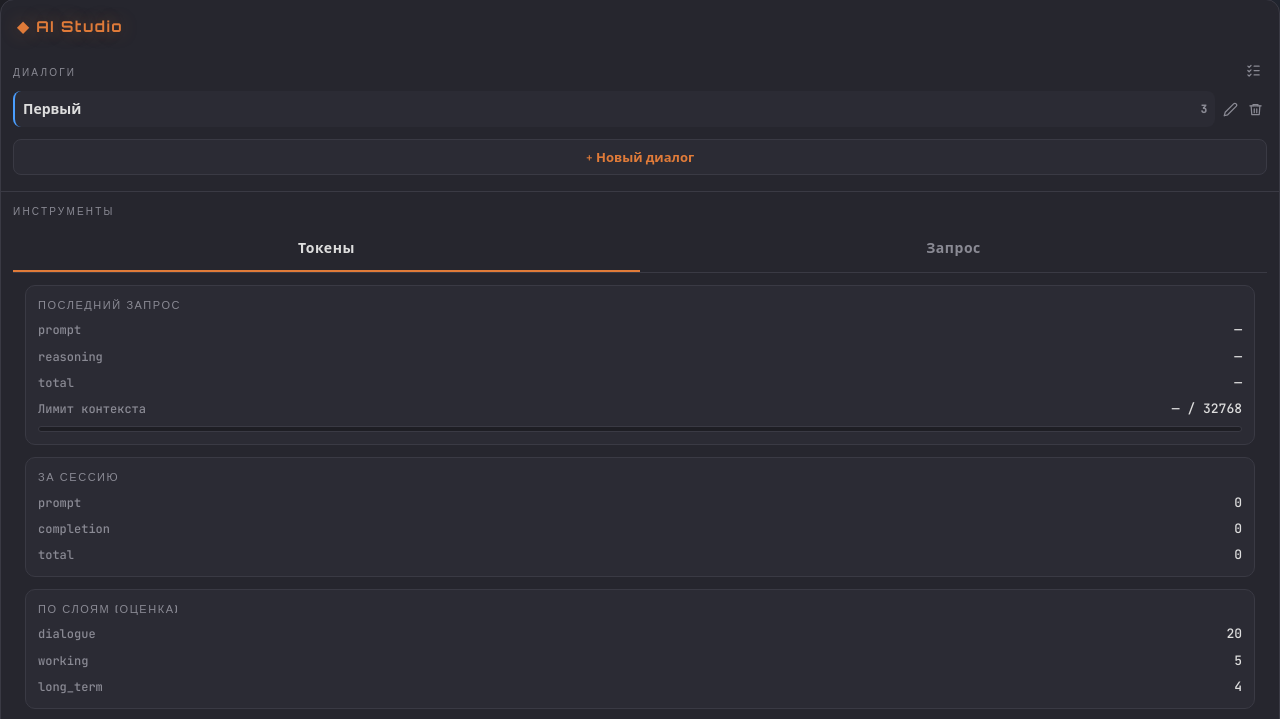
Scenario: Sidebar — ренейм по карандашу › карандаш → инпут → Enter → POST /rename → новый title в списке И в h1 чата
Click the button titled "Переименовать": click(1230, 109) [1219,100,1242,118]
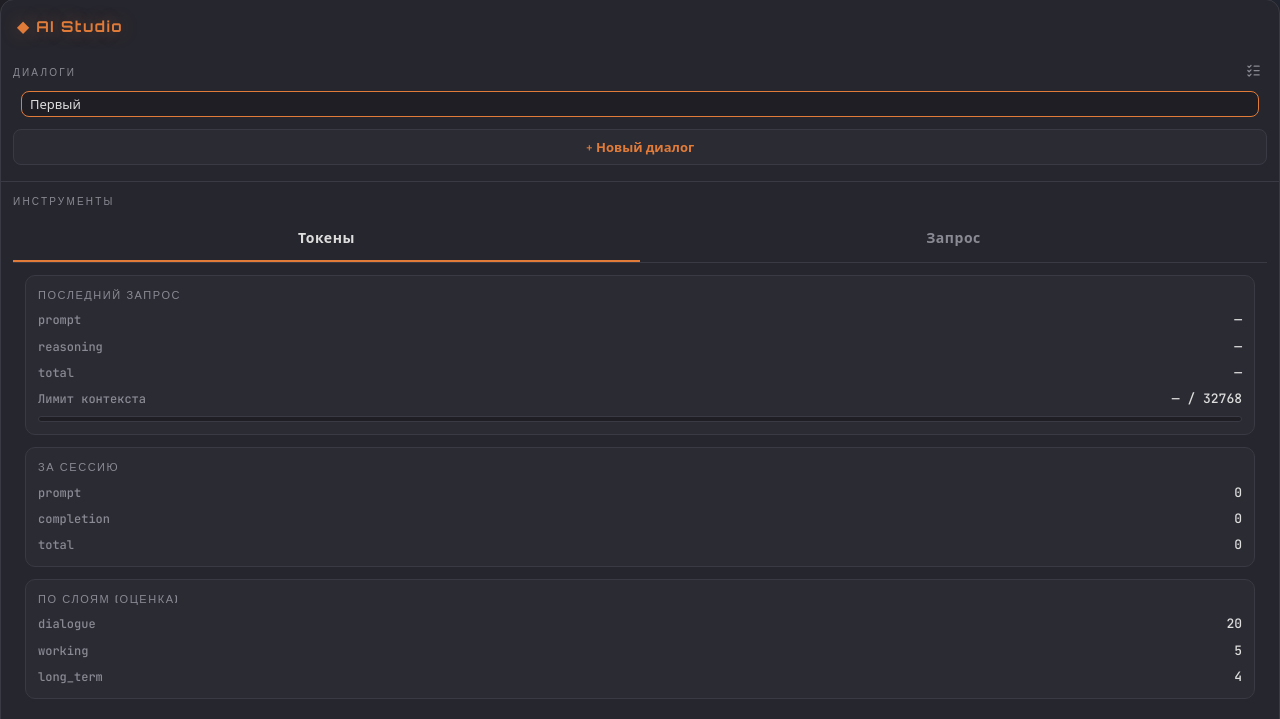
Now the field with class "rename-input" holds "Первый"
Replace the text in the field with class "rename-input" with "Новый заголовок": (640, 104) [21,91,1259,117]
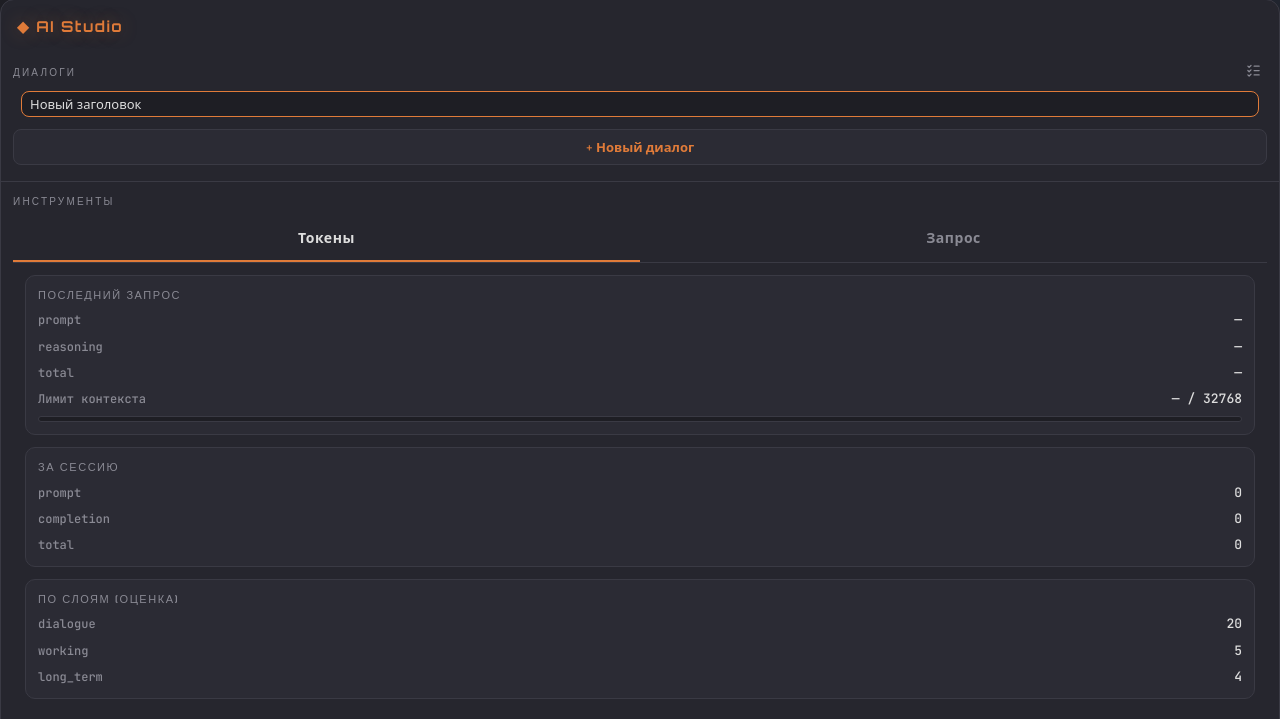
Press Enter in the field with class "rename-input", box [21,91,1259,117]
(page scrolled)
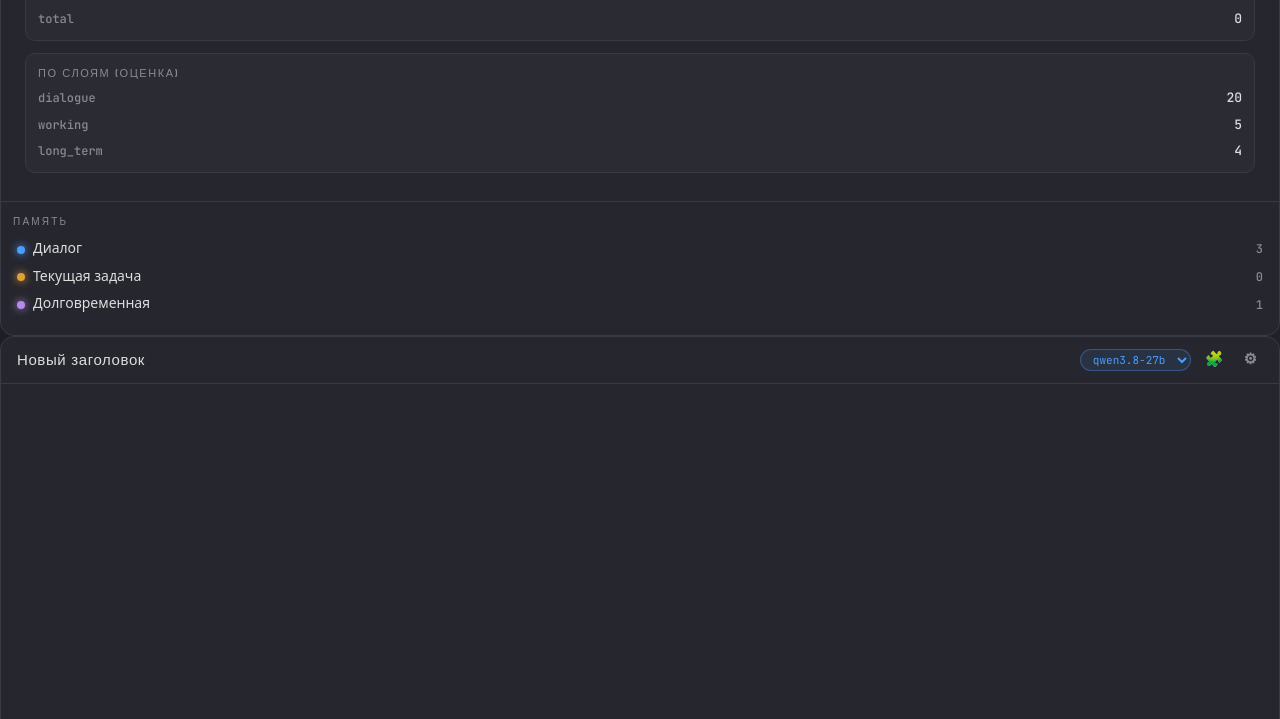
Now the text "Новый заголовок" is shown 2 times
Now the heading "Новый заголовок" is shown, box [17,349,145,370]
Now the text "Первый" is gone
